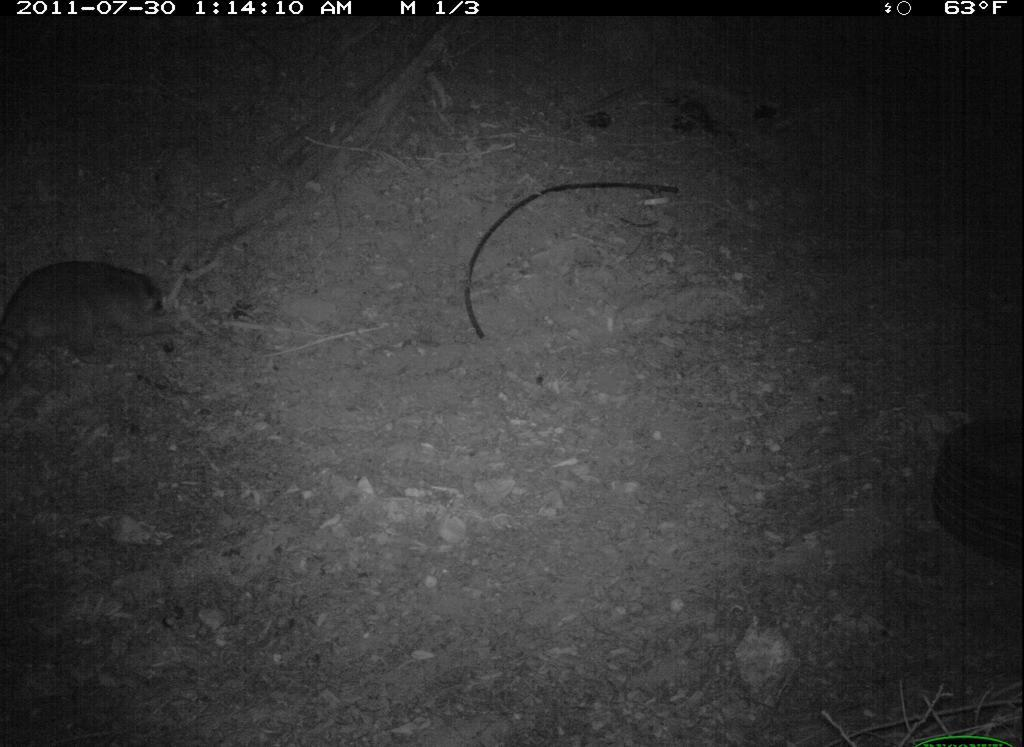raccoon: (1, 245, 194, 386)
